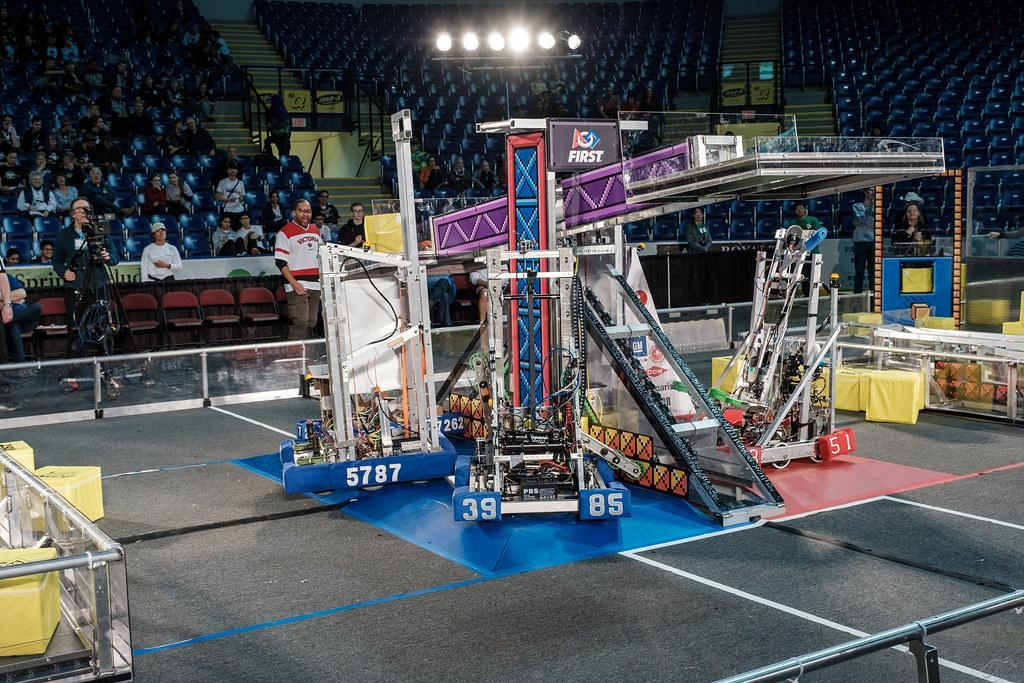robot: (274, 101, 467, 501), (448, 232, 637, 529), (703, 221, 874, 475)
